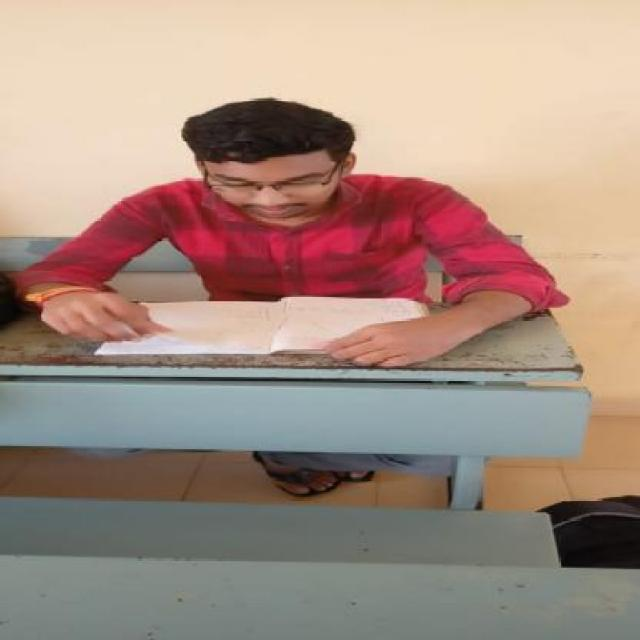good: (0, 89, 593, 374)
